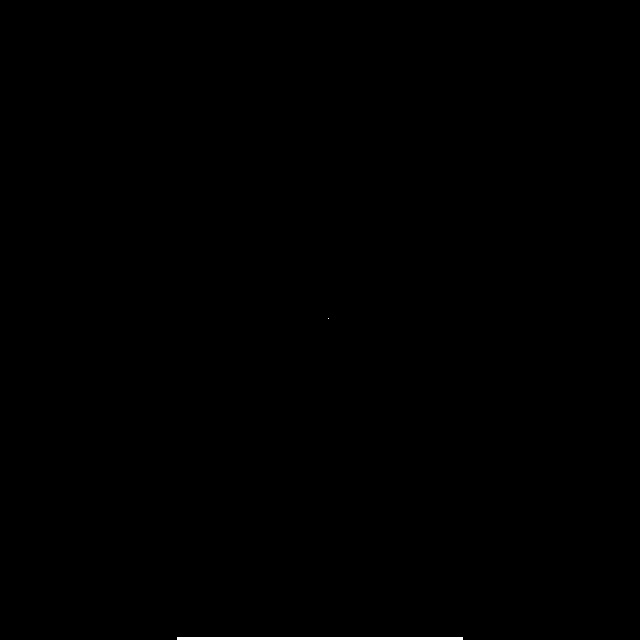nonvisual: (324, 306, 336, 324)
